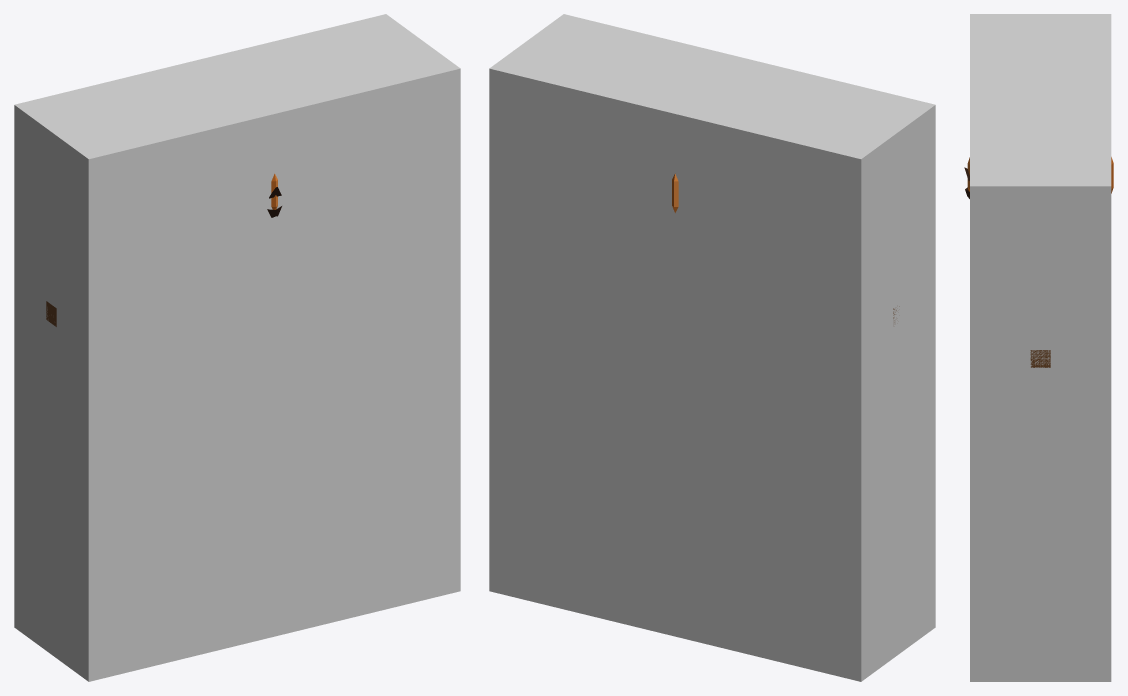
Rendered from FMS_Scarecrow_Pumpkin.fbx.
3 renders of one model, left to right at view 1: azimuth 30°, elevation 25°; view 2: azimuth 150°, elevation 25°; view 3: azimuth 270°, elevation 25°, orthographic. The views are drawn at different scales.
Visible parts, largest first — view 1: FMS_Scarecrow_Pumpkin_Col; view 2: FMS_Scarecrow_Pumpkin_Col; view 3: FMS_Scarecrow_Pumpkin_Col, FMS_Scarecrow_Pumpkin_LOD0.
Boxes of the visible parts, bbox=[...] form: FMS_Scarecrow_Pumpkin_Col: bbox=[14, 14, 460, 681]; FMS_Scarecrow_Pumpkin_Col: bbox=[489, 14, 935, 681]; FMS_Scarecrow_Pumpkin_Col: bbox=[970, 14, 1111, 681]; FMS_Scarecrow_Pumpkin_LOD0: bbox=[964, 157, 1113, 367].
Size of what is drawn, in the model's own units: 1.44 by 1.93 by 0.528.
Materials: 1 (1 with a texture image).
